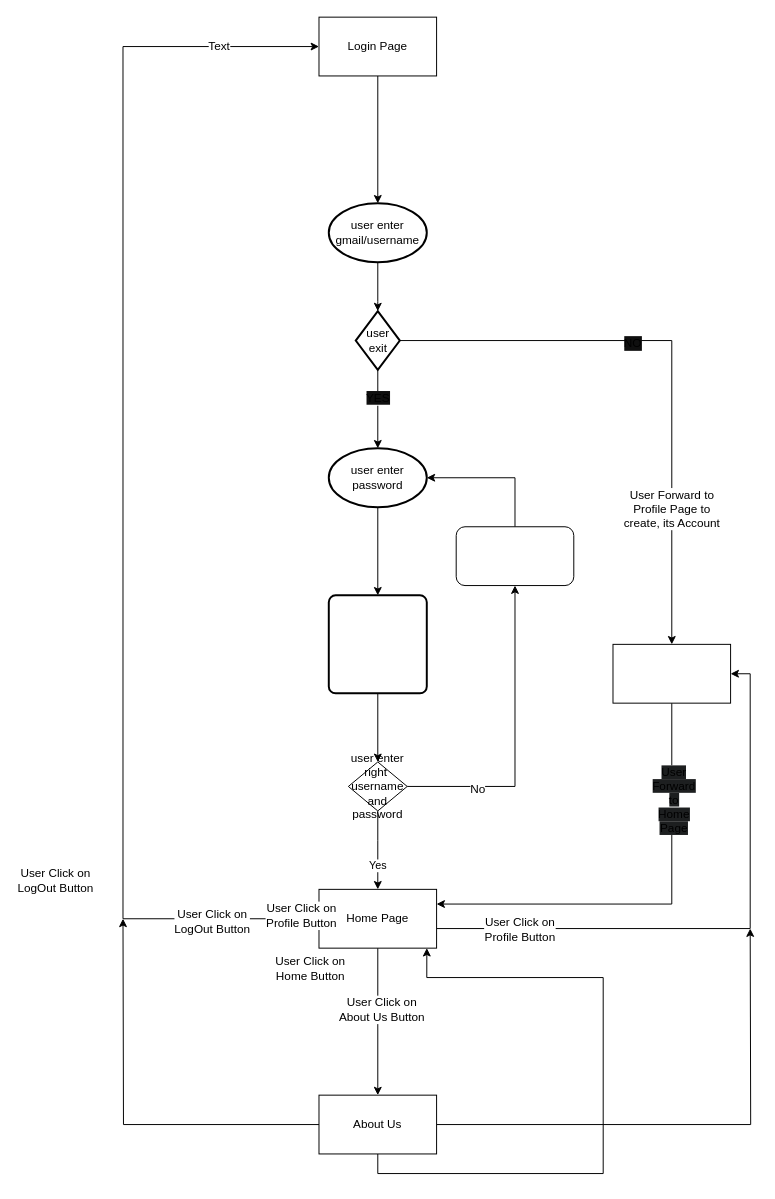
Image size: 775x1199. Some labels were removed from this diagram. Each missing label, with the box of its shape:
check if user exist: (327, 594, 427, 694)
Pop Up Password does not match (5 tries, 2 mins cool down): (455, 526, 574, 586)
Profile Page: (612, 643, 731, 703)
